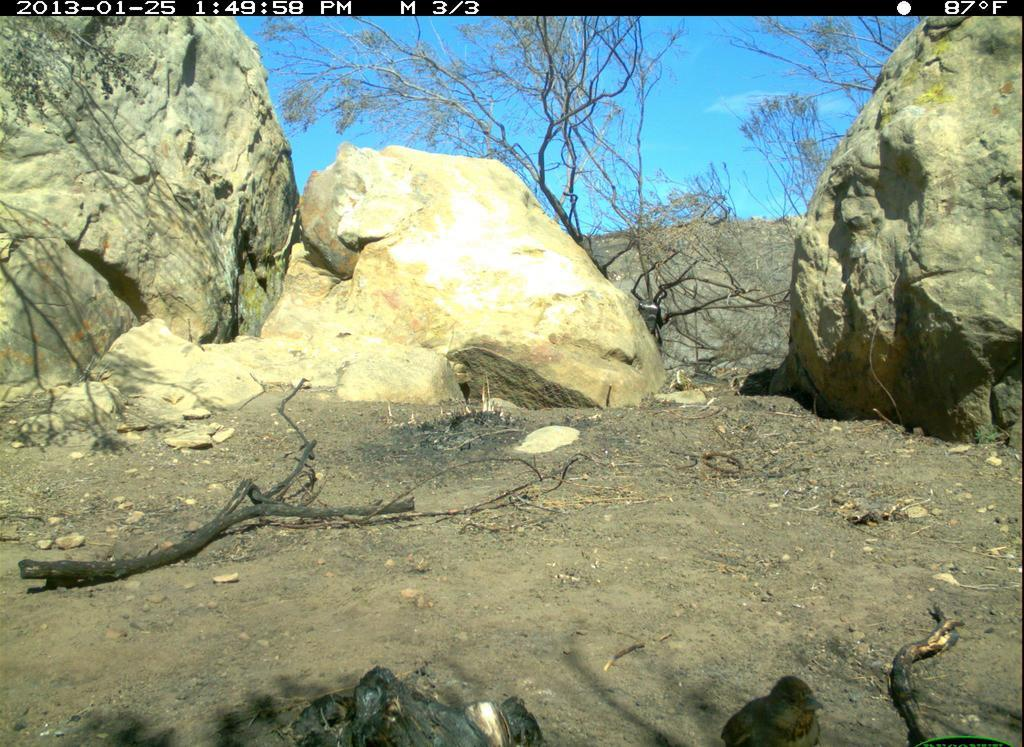bird: (721, 669, 831, 747)
